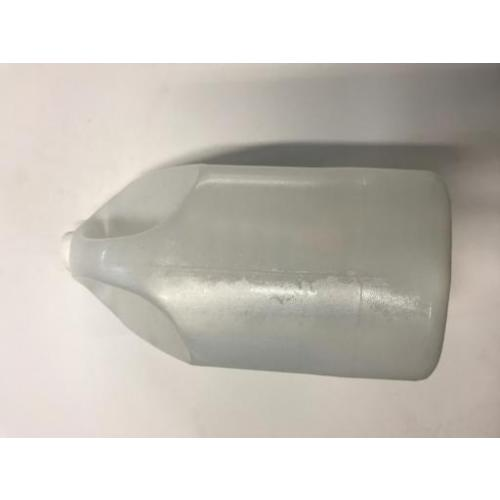plastic: (63, 165, 449, 380)
